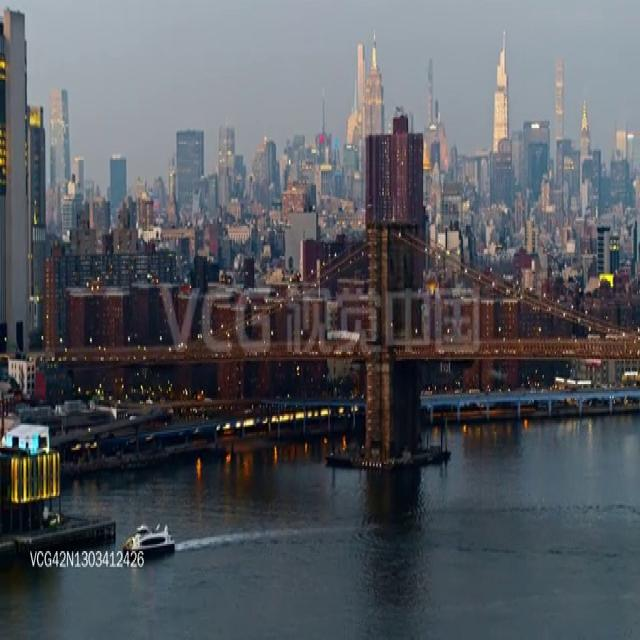houseboat: (119, 519, 173, 557)
